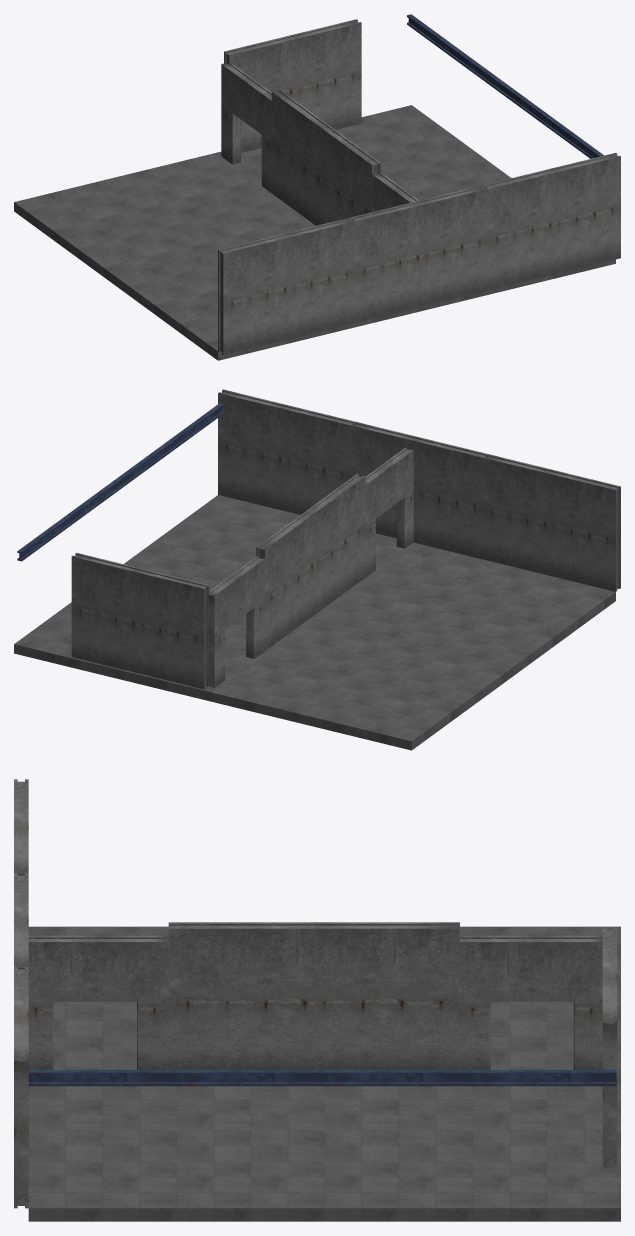
The model's file is BuildingMap_3_0.gltf.
The picture shows the model from 3 angles, top to bottom: view 1: azimuth 30°, elevation 25°; view 2: azimuth 150°, elevation 25°; view 3: azimuth 270°, elevation 25°; orthographic projection. The views are drawn at different scales.
Parts seen in each view (by area): view 1: SM_Floors_Thick_64, SM_Building_Pieces_WallConcrete6m26, SM_Building_Pieces_WallConcrete6m27, SM_Building_Pieces_WallConcrete6m28, SM_Building_Pieces_WallConcrete6m46, SM_Building_Pieces_WallConcrete6m44, SM_Floors_Thick_63, SM_Floors_Thick_70, SM_Building_Pieces_Wall4m_Door9, SM_Floors_Thick_65, SM_Floors_Thick_67, SM_Floors_Thick_66 (+7 smaller); view 2: SM_Floors_Thick_64, SM_Floors_Thick_70, SM_Building_Pieces_WallConcrete6m26, SM_Building_Pieces_WallConcrete6m44, SM_Building_Pieces_WallConcrete6m28, SM_Building_Pieces_WallConcrete6m46, SM_Building_Pieces_WallConcrete6m27, SM_Floors_Thick_69, SM_Floors_Thick_63, SM_Building_Pieces_Wall4m_Door9, SM_Building_Pieces_Wall4m_Door25, SM_Floors_Thick_65 (+9 smaller); view 3: SM_Building_Pieces_WallConcrete6m46, SM_Floors_Thick_69, SM_Floors_Thick_63, SM_Building_Pieces_Wall4m_Door9, SM_Building_Pieces_Wall4m_Door25, SM_Floors_Thick_64, SM_Floors_Thick_70, SM_Building_Pieces_WallConcrete6m44, SM_Building_Pieces_WallConcrete6m28, SM_Floors_Thick_73, SM_Floors_Thick_74, SM_Floors_Thick_65 (+11 smaller).
Boxes of the visible parts, x1,y1,x2,y2 form: SM_Floors_Thick_64: [14, 159, 289, 285]; SM_Building_Pieces_WallConcrete6m26: [218, 217, 355, 355]; SM_Building_Pieces_WallConcrete6m27: [351, 185, 488, 322]; SM_Building_Pieces_WallConcrete6m28: [483, 153, 620, 290]; SM_Building_Pieces_WallConcrete6m46: [271, 89, 380, 225]; SM_Building_Pieces_WallConcrete6m44: [224, 19, 361, 152]; SM_Floors_Thick_63: [191, 116, 466, 231]; SM_Floors_Thick_70: [116, 252, 394, 360]; SM_Building_Pieces_Wall4m_Door9: [221, 63, 271, 192]; SM_Floors_Thick_65: [368, 105, 436, 134]; SM_Floors_Thick_67: [419, 142, 487, 171]; SM_Floors_Thick_66: [393, 124, 462, 152]; SM_Floors_Thick_64: [235, 623, 513, 750]; SM_Floors_Thick_70: [337, 549, 615, 675]; SM_Building_Pieces_WallConcrete6m26: [483, 454, 620, 591]; SM_Building_Pieces_WallConcrete6m44: [71, 553, 209, 689]; SM_Building_Pieces_WallConcrete6m28: [218, 389, 355, 514]; SM_Building_Pieces_WallConcrete6m46: [256, 474, 365, 650]; SM_Building_Pieces_WallConcrete6m27: [350, 422, 487, 559]; SM_Floors_Thick_69: [168, 505, 438, 623]; SM_Floors_Thick_63: [58, 614, 336, 707]; SM_Building_Pieces_Wall4m_Door9: [208, 556, 264, 687]; SM_Building_Pieces_Wall4m_Door25: [365, 448, 413, 577]; SM_Floors_Thick_65: [14, 625, 71, 664]; SM_Building_Pieces_WallConcrete6m46: [168, 922, 459, 1069]; SM_Floors_Thick_69: [28, 1052, 324, 1176]; SM_Floors_Thick_63: [325, 1052, 620, 1176]; SM_Building_Pieces_Wall4m_Door9: [458, 935, 602, 1069]; SM_Building_Pieces_Wall4m_Door25: [28, 935, 169, 1069]; SM_Floors_Thick_64: [460, 926, 620, 1051]; SM_Floors_Thick_70: [28, 926, 168, 1051]; SM_Building_Pieces_WallConcrete6m44: [602, 928, 617, 1168]; SM_Building_Pieces_WallConcrete6m28: [14, 967, 28, 1208]; SM_Floors_Thick_73: [102, 1177, 176, 1221]; SM_Floors_Thick_74: [28, 1177, 102, 1221]; SM_Floors_Thick_65: [547, 1177, 620, 1221].
Size of the model in its own units: 18 by 4.8 by 16.4.
Materials: 3 (3 with a texture image).
